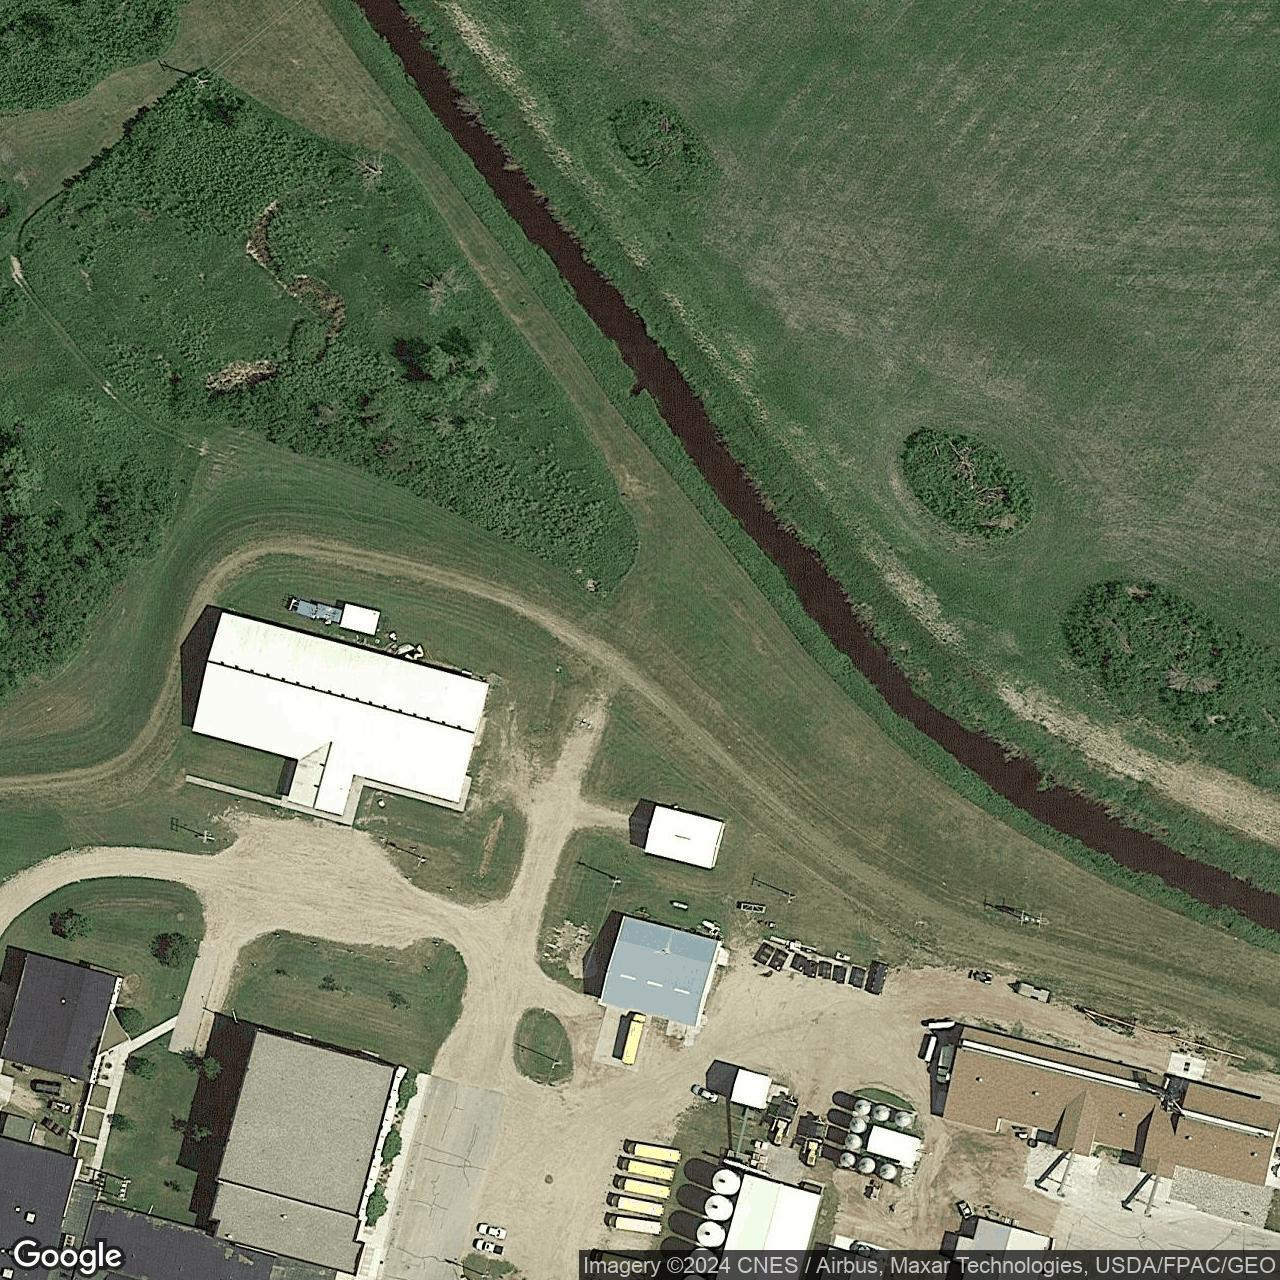Garage: (600, 914, 722, 1027), (645, 805, 724, 869)
House: (0, 1135, 81, 1279), (955, 1217, 1051, 1250)
Other: (192, 612, 490, 817), (942, 1026, 1279, 1186), (207, 1030, 396, 1278), (0, 953, 131, 1084), (723, 1173, 823, 1250), (866, 1125, 922, 1169), (731, 1069, 774, 1109)
